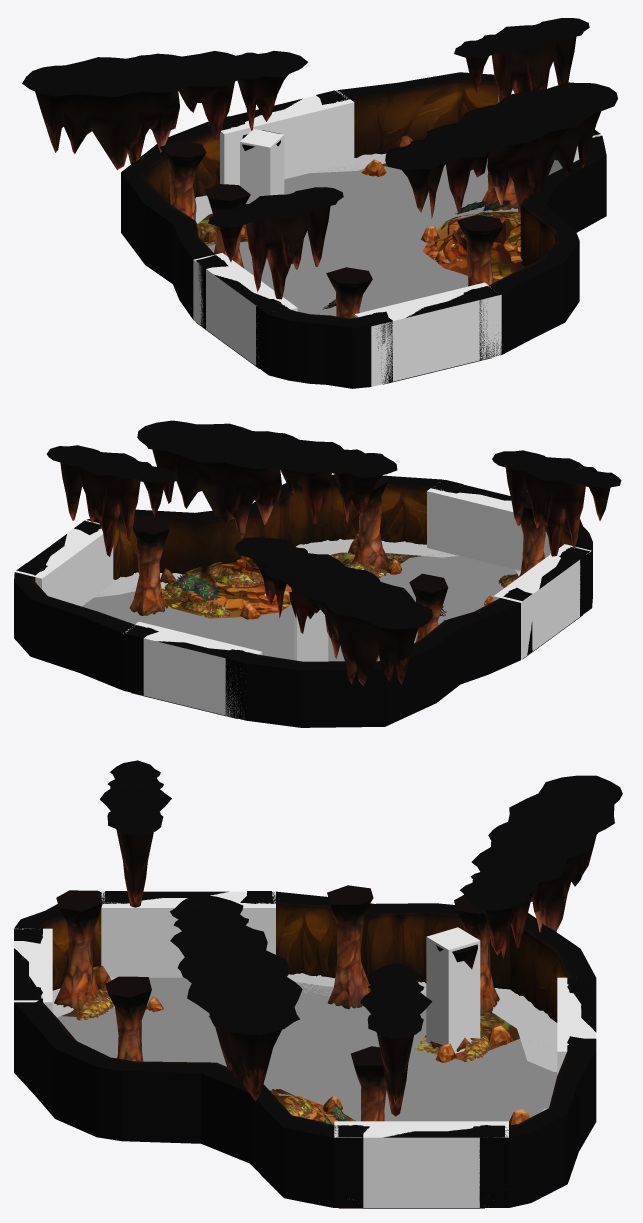
File: Dungeon_062_QuestBossRoom.fbx
3 views of the same model, one above another, from view 1: azimuth 30°, elevation 25°; view 2: azimuth 150°, elevation 25°; view 3: azimuth 270°, elevation 25° (orthographic). The views are drawn at different scales.
Visible parts, largest first — view 1: Dun_061_Room_003_Object02, Dun_061_Room_003_wall, DoorWay_NavMask (3) (×3), Dun_062_Room_003_Nav, Dun_062_Object027, DoorWay_NavMask (1) (×2), Dun_062_Door_002 (×3), cube_061_pillar, Dun_062_Object07, Dungeon_062_Object_04_Pillar (×2), Dun_011_Room_003_ground, Dun_061_Room_003_shadow (+1 smaller); view 2: Dun_061_Room_003_Object02, Dun_061_Room_003_wall, DoorWay_NavMask (3) (×4), Dun_062_Room_003_Nav, Dungeon_062_Object_04_Pillar (×2), DoorWay_NavMask (1) (×3), Dun_062_Door_002 (×4), Dun_062_Object027, Dun_062_Object026, Dun_062_Object07, Dun_061_Room_003_shadow, cube_061_pillar (+3 smaller); view 3: Dun_061_Room_003_wall, Dun_061_Room_003_Object02, Dun_062_Room_003_Nav, DoorWay_NavMask (3) (×4), Dun_062_Object027, Dungeon_062_Object_04_Pillar (×2), cube_061_pillar, Dun_062_Door_002 (×4), DoorWay_NavMask (1) (×2), Dun_061_Room_003_shadow, Dun_062_Object026, Dun_011_Room_003_ground (+1 smaller).
Part boxes in pixels (<box>): Dun_061_Room_003_Object02: <box>22,18,617,299</box>; Dun_061_Room_003_wall: <box>121,72,606,388</box>; DoorWay_NavMask (3) (×3): <box>193,90,501,386</box>; Dun_062_Room_003_Nav: <box>208,158,518,316</box>; Dun_062_Object027: <box>160,130,503,318</box>; DoorWay_NavMask (1) (×2): <box>206,267,480,381</box>; Dun_062_Door_002 (×3): <box>195,90,497,382</box>; cube_061_pillar: <box>240,129,284,203</box>; Dun_062_Object07: <box>434,216,524,279</box>; Dungeon_062_Object_04_Pillar (×2): <box>204,173,517,268</box>; Dun_011_Room_003_ground: <box>196,163,520,384</box>; Dun_061_Room_003_shadow: <box>195,153,386,223</box>; Dun_061_Room_003_Object02: <box>47,420,621,685</box>; Dun_061_Room_003_wall: <box>14,474,592,727</box>; DoorWay_NavMask (3) (×4): <box>15,482,591,717</box>; Dun_062_Room_003_Nav: <box>82,552,519,661</box>; Dungeon_062_Object_04_Pillar (×2): <box>129,515,448,641</box>; DoorWay_NavMask (1) (×3): <box>46,529,560,703</box>; Dun_062_Door_002 (×4): <box>16,480,590,715</box>; Dun_062_Object027: <box>289,475,545,661</box>; Dun_062_Object026: <box>164,559,518,617</box>; Dun_062_Object07: <box>176,555,291,611</box>; Dun_061_Room_003_shadow: <box>94,539,520,597</box>; cube_061_pillar: <box>294,609,328,661</box>; Dun_061_Room_003_wall: <box>14,891,596,1207</box>; Dun_061_Room_003_Object02: <box>100,760,622,1116</box>; Dun_062_Room_003_Nav: <box>57,977,557,1121</box>; DoorWay_NavMask (3) (×4): <box>14,891,596,1207</box>; Dun_062_Object027: <box>54,890,499,1061</box>; Dungeon_062_Object_04_Pillar (×2): <box>327,885,386,1121</box>; cube_061_pillar: <box>426,927,480,1053</box>; Dun_062_Door_002 (×4): <box>14,891,596,1208</box>; DoorWay_NavMask (1) (×2): <box>14,940,479,1207</box>; Dun_061_Room_003_shadow: <box>52,973,557,1112</box>; Dun_062_Object026: <box>76,989,491,1121</box>; Dun_011_Room_003_ground: <box>61,1009,519,1208</box>.
Bounding box in the file's own units: 17.49 × 5.11 × 15.84.
